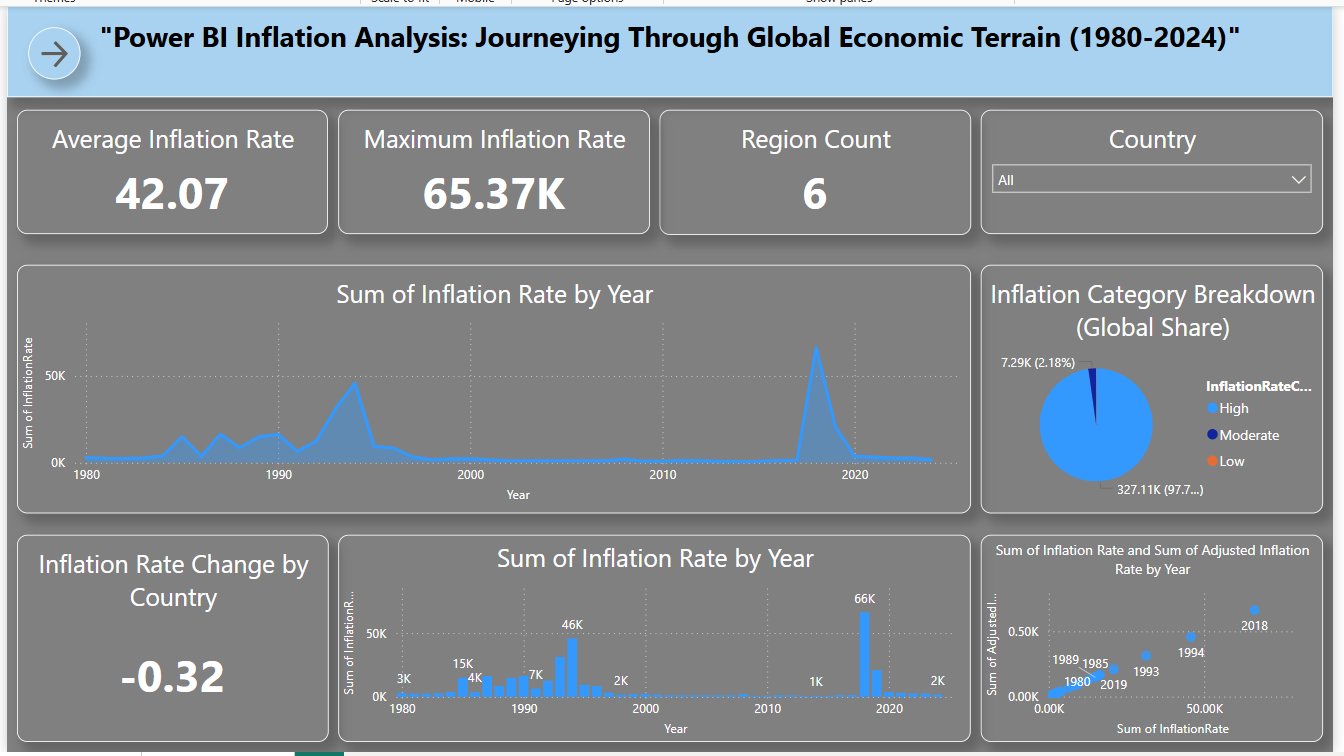

The dashboard page shown, as its layout file describes it:
{"tool":"powerbi","page":{"name":"Page 1 - Dashboard","canvas":[1280,720],"ordinal":0},"visuals":[{"type":"textbox","box":[0,0,1280.3,88],"z":0},{"type":"card","title":"Average Inflation Rate","fields":{"Values":["Avg(GlobalInflationData.InflationRate)"]},"box":[10,100,300,120],"z":1000},{"type":"card","title":"Region Count","fields":{"Values":["Count(GlobalInflationData.Region)"]},"box":[630,100,300.4,120.6],"z":2000},{"type":"card","title":"Maximum Inflation Rate","fields":{"Values":["Max(GlobalInflationData.InflationRate)"]},"box":[320,100,300.4,120],"z":3000},{"type":"slicer","title":"Country","fields":{"Values":["GlobalInflationData.CountryName"]},"box":[940,100,330,120],"z":4000},{"type":"lineChart","title":"Inflation Trend Over the Years (1980–2024)","fields":{"Category":["GlobalInflationData.Year"],"Y":["Sum(GlobalInflationData.InflationRate)"]},"box":[10,250,920.5,240.1],"z":5000},{"type":"pieChart","title":"Inflation Category Breakdown (Global Share)","fields":{"Category":["GlobalInflationData.InflationRateCategory"],"Y":["Sum(GlobalInflationData.InflationRate)"]},"box":[940,250,330.6,240.1],"z":6000},{"type":"card","title":"Inflation Rate Change by Country","fields":{"Values":["GlobalInflationData.InflationRateChange"]},"box":[10,510,300.4,200],"z":7000},{"type":"columnChart","title":"Annual Inflation Rate Distribution","fields":{"Category":["GlobalInflationData.Year"],"Y":["Sum(GlobalInflationData.InflationRate)"]},"box":[320,510.3,610.5,200.3],"z":8000},{"type":"scatterChart","title":"Inflation vs Adjusted Inflation by Year","fields":{"Category":["GlobalInflationData.Year"],"X":["Sum(GlobalInflationData.InflationRate)"],"Y":["Sum(GlobalInflationData.AdjustedInflationRate)"]},"box":[940,510,330,200],"z":9000},{"type":"actionButton","box":[20,20,50,50],"z":10000}]}

Visuals, with their boxes on the page's 1280x720 design canvas (x1, y1, x2, y2). These are canvas units, not pixel positions in the 1344x756 screenshot, which may show the page scaled, cropped or inside an application window:
textbox: [0,0,1280,88]
"Average Inflation Rate" card: [10,100,310,220]
"Region Count" card: [630,100,930,221]
"Maximum Inflation Rate" card: [320,100,620,220]
"Country" slicer: [940,100,1270,220]
"Inflation Trend Over the Years (1980–2024)" lineChart: [10,250,930,490]
"Inflation Category Breakdown (Global Share)" pieChart: [940,250,1271,490]
"Inflation Rate Change by Country" card: [10,510,310,710]
"Annual Inflation Rate Distribution" columnChart: [320,510,930,711]
"Inflation vs Adjusted Inflation by Year" scatterChart: [940,510,1270,710]
actionButton: [20,20,70,70]
